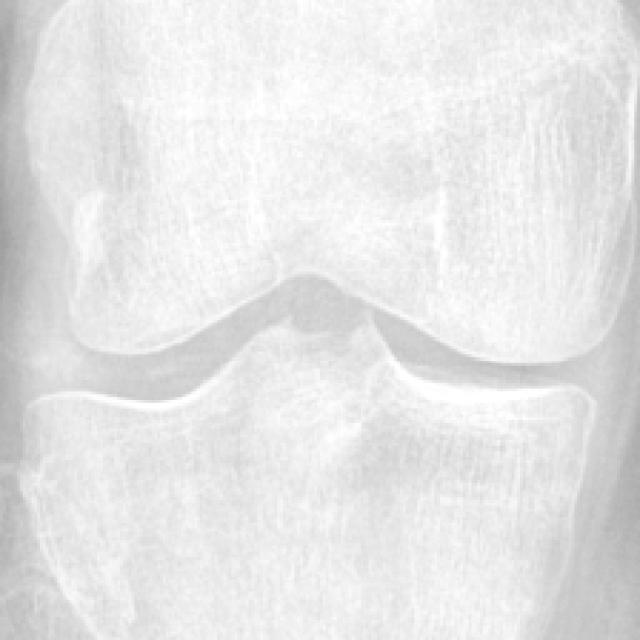femur: (23, 0, 639, 365)
tibia: (26, 323, 589, 637)
